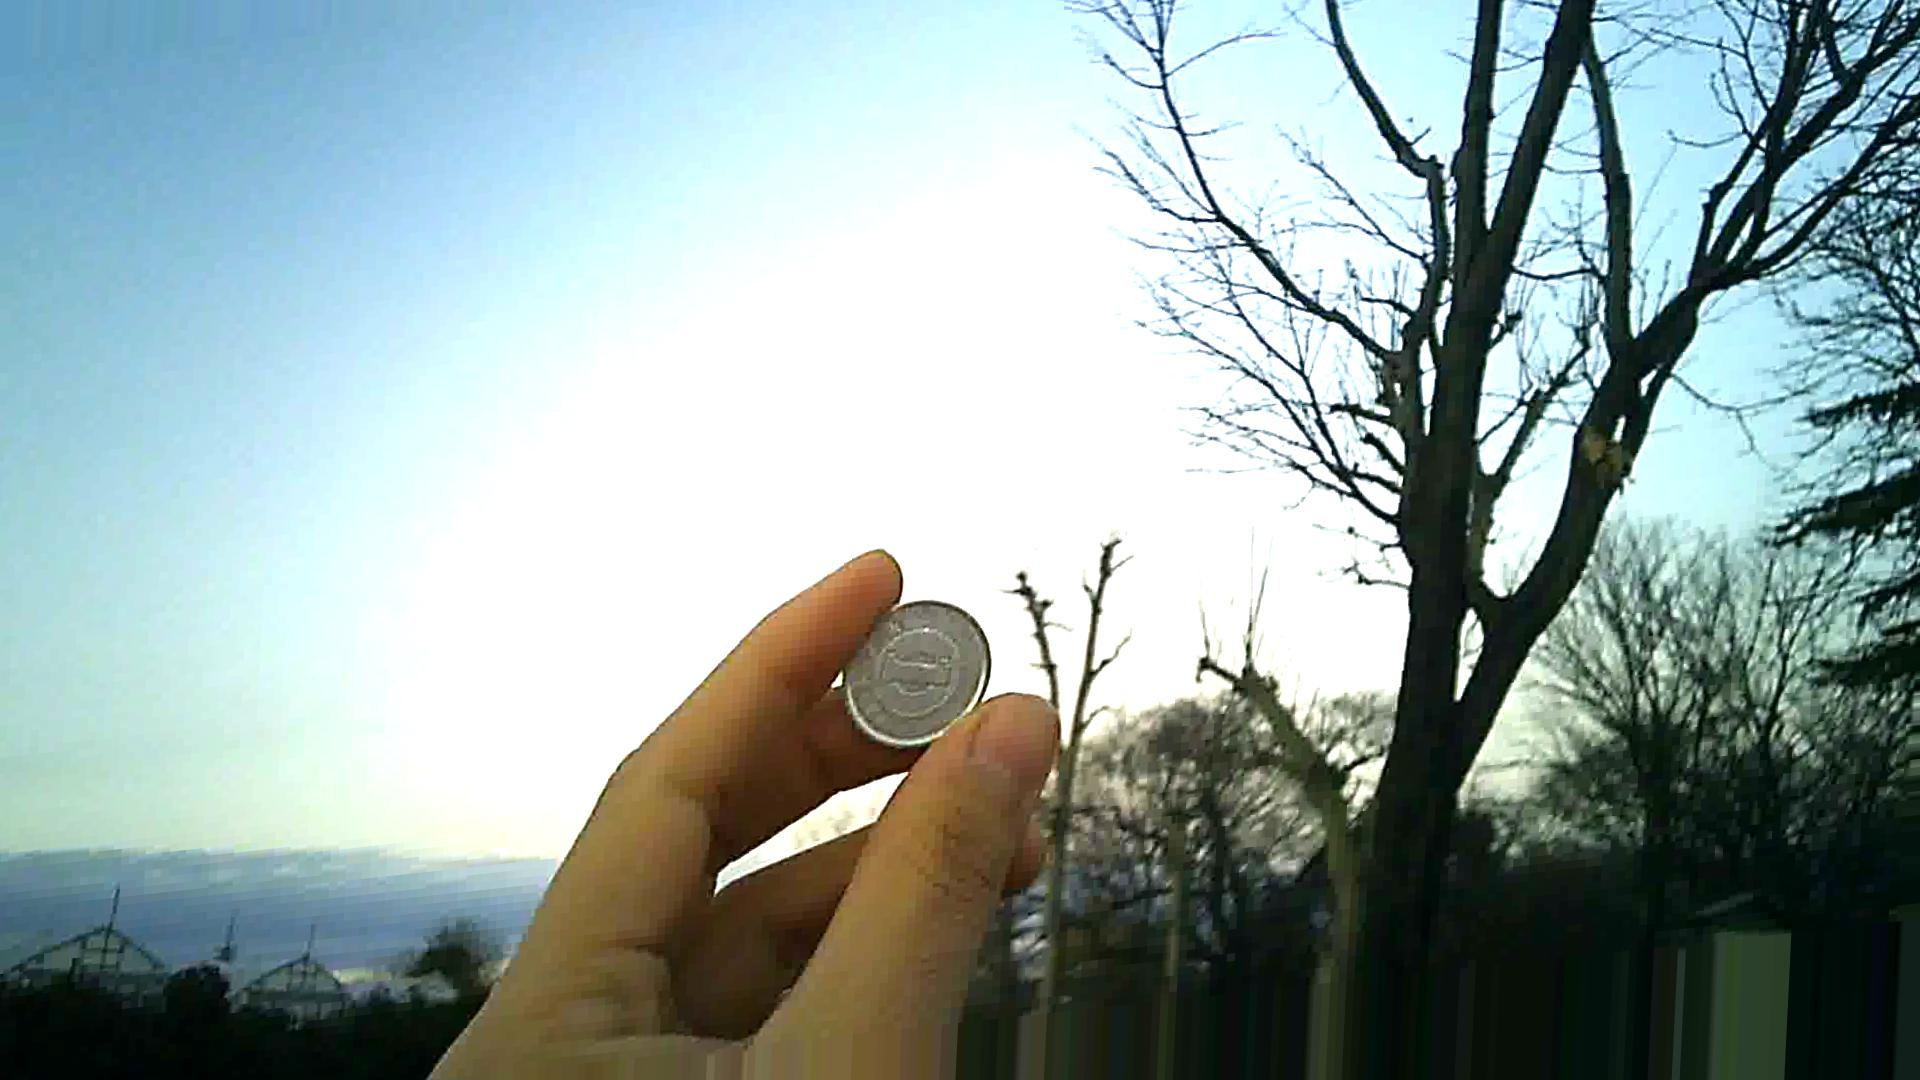1 Yen: (837, 588, 992, 746)
